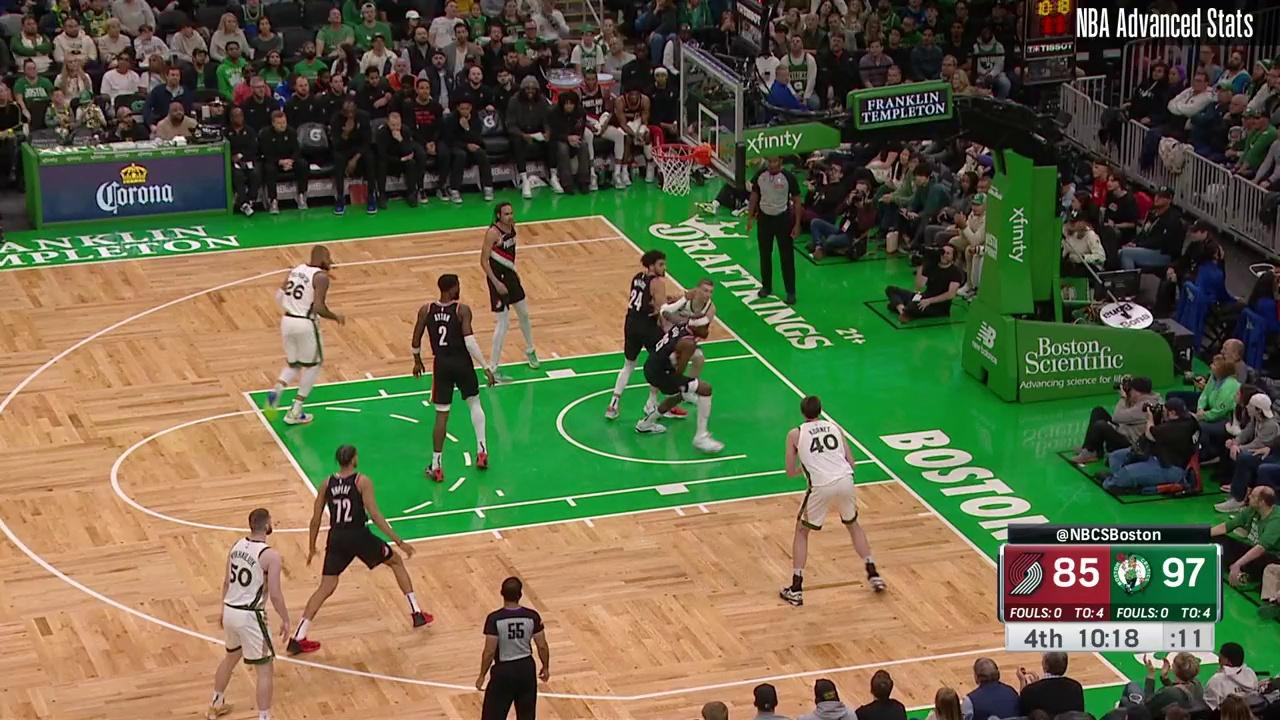3_sx: (617, 232, 629, 242)
b_dx: (1111, 666, 1141, 692)
b_sx: (596, 212, 606, 220)
free_asx: (240, 389, 251, 400)
free_bdx: (891, 473, 903, 486)
free_bsx: (732, 334, 744, 344)
referee: (476, 575, 552, 718), (745, 149, 807, 306)
team: (780, 393, 891, 607), (200, 505, 290, 720), (260, 242, 349, 430), (663, 279, 718, 412)
team1: (289, 443, 432, 656), (410, 272, 497, 480), (608, 251, 684, 419), (482, 199, 546, 380), (646, 314, 727, 453)
timer: (1073, 621, 1140, 654)
